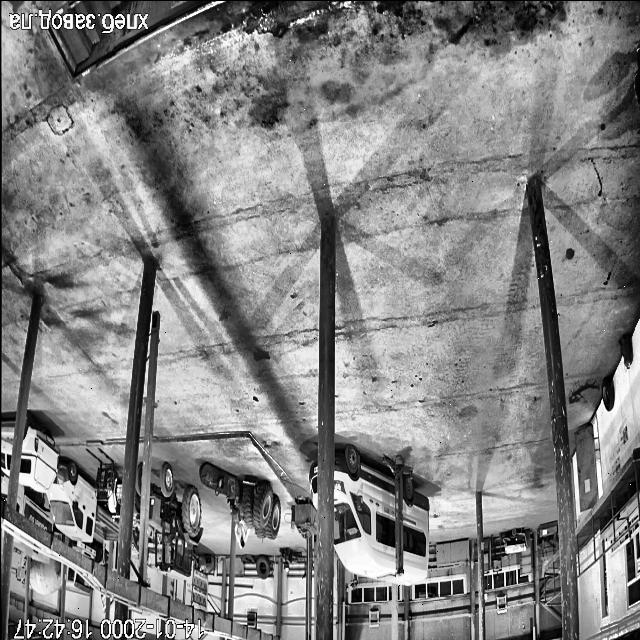car lift: (384, 455, 412, 576)
fire extinguisher: (619, 334, 632, 368)
mechanic: (232, 508, 248, 548), (635, 46, 640, 109)
tractor: (148, 462, 202, 579), (136, 463, 142, 500), (138, 503, 140, 504)
truck: (333, 444, 428, 585), (47, 461, 118, 541), (20, 412, 60, 492), (16, 484, 52, 532), (30, 557, 64, 595), (14, 535, 47, 560), (0, 421, 14, 475), (66, 567, 92, 595), (76, 542, 104, 563), (308, 462, 317, 508), (16, 556, 25, 585), (0, 476, 8, 498)
